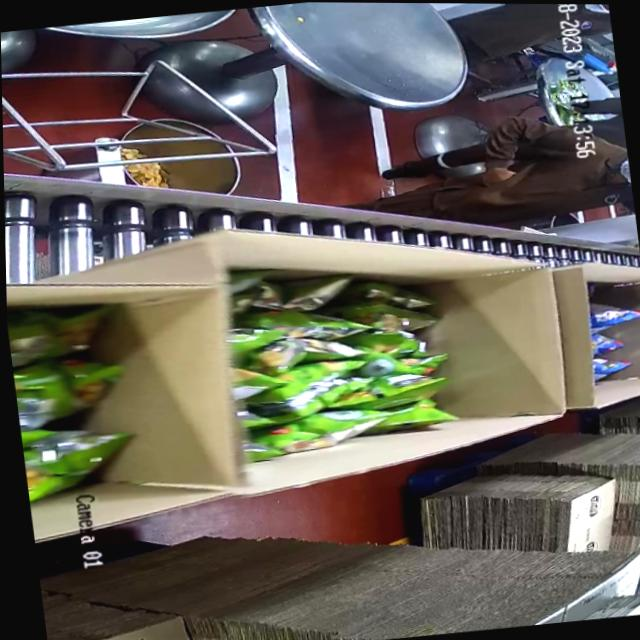PAPRIKA: (588, 292, 640, 389)
